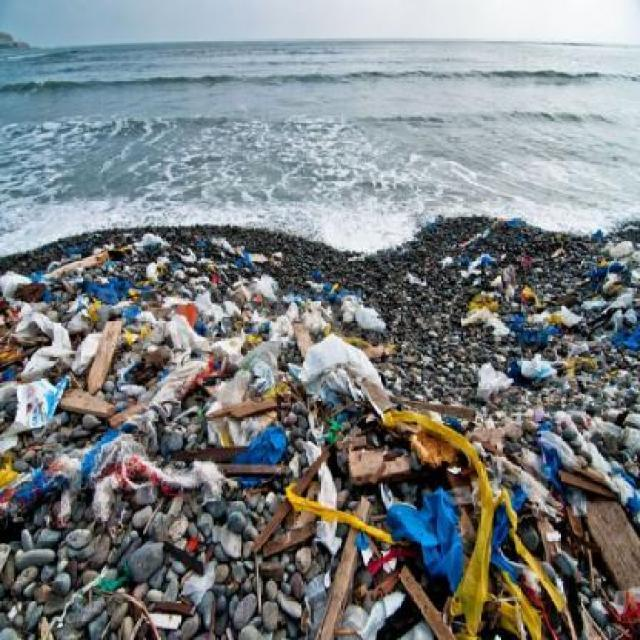garbage: (45, 257, 276, 436), (402, 437, 539, 640), (458, 266, 640, 362)
